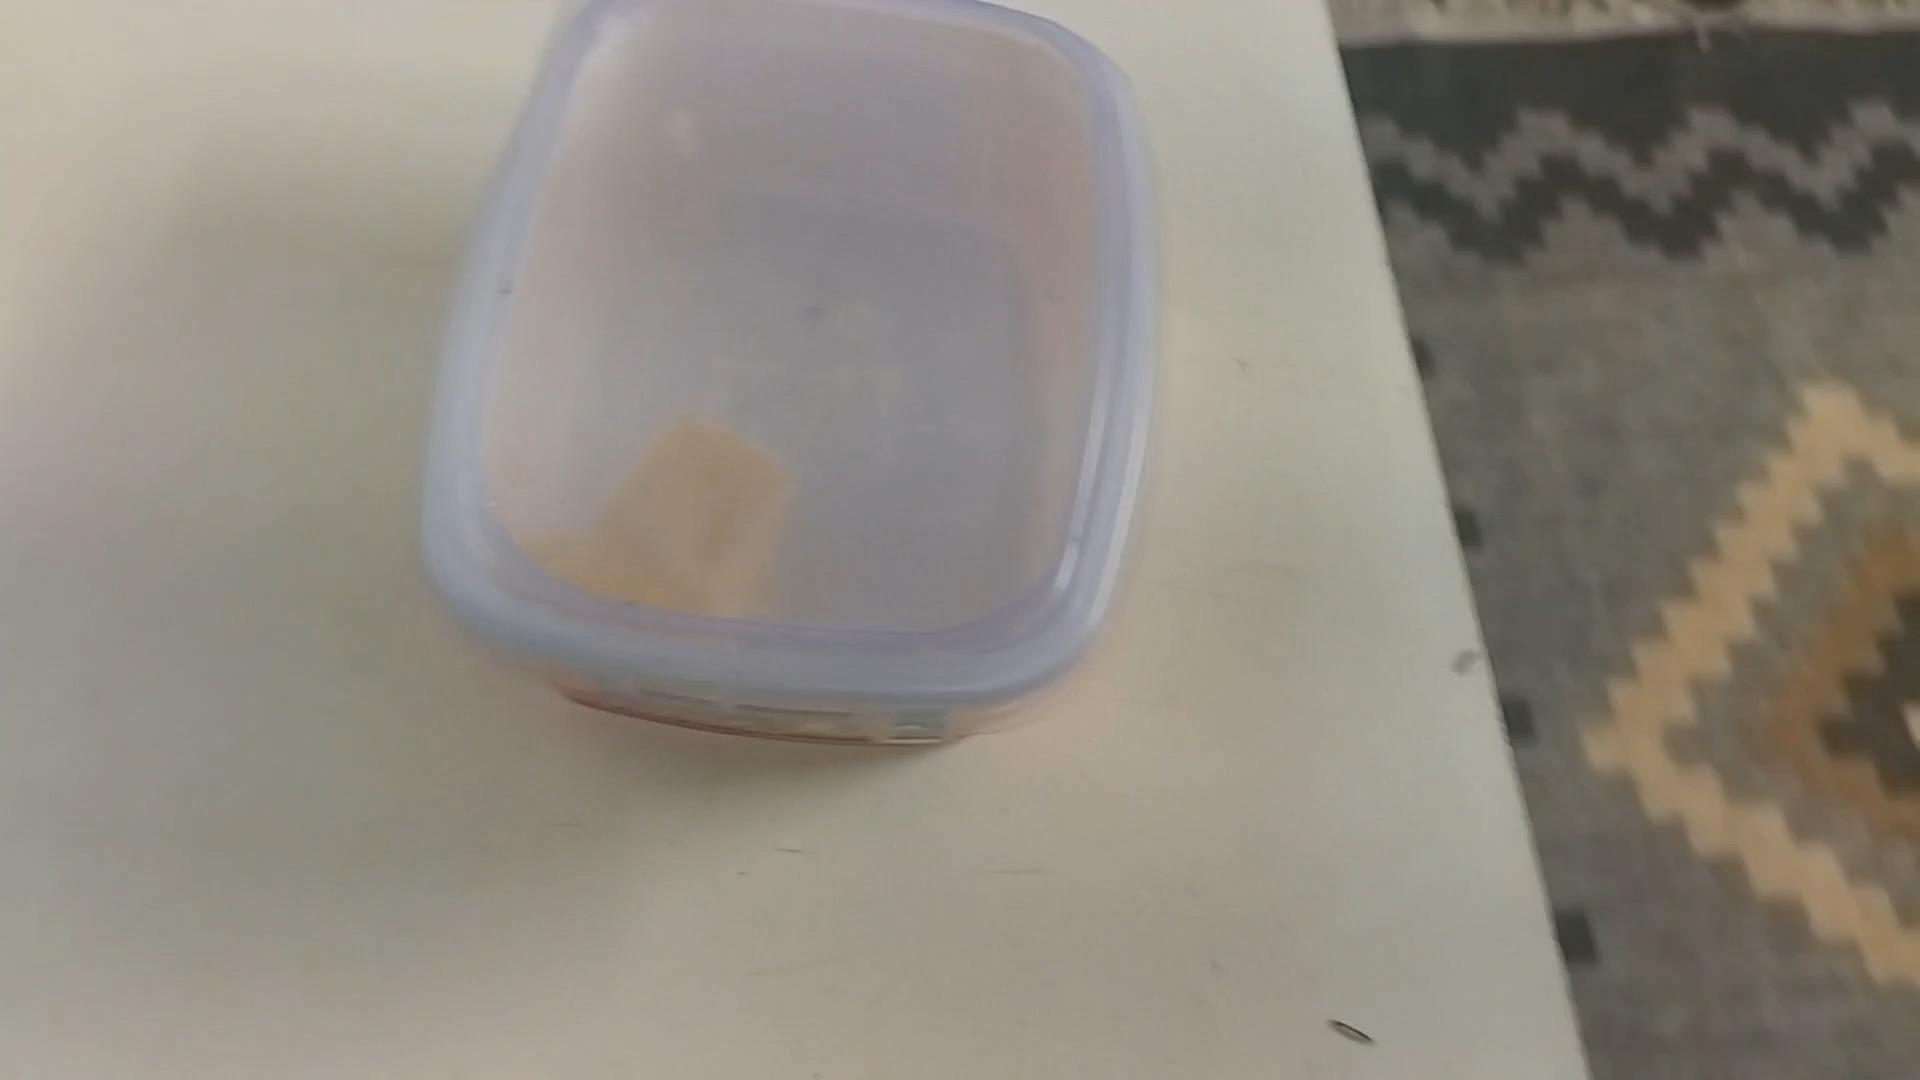butter: (419, 11, 1150, 749)
